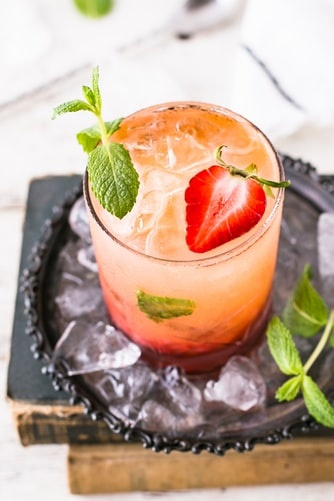whiskey: (85, 98, 287, 372)
